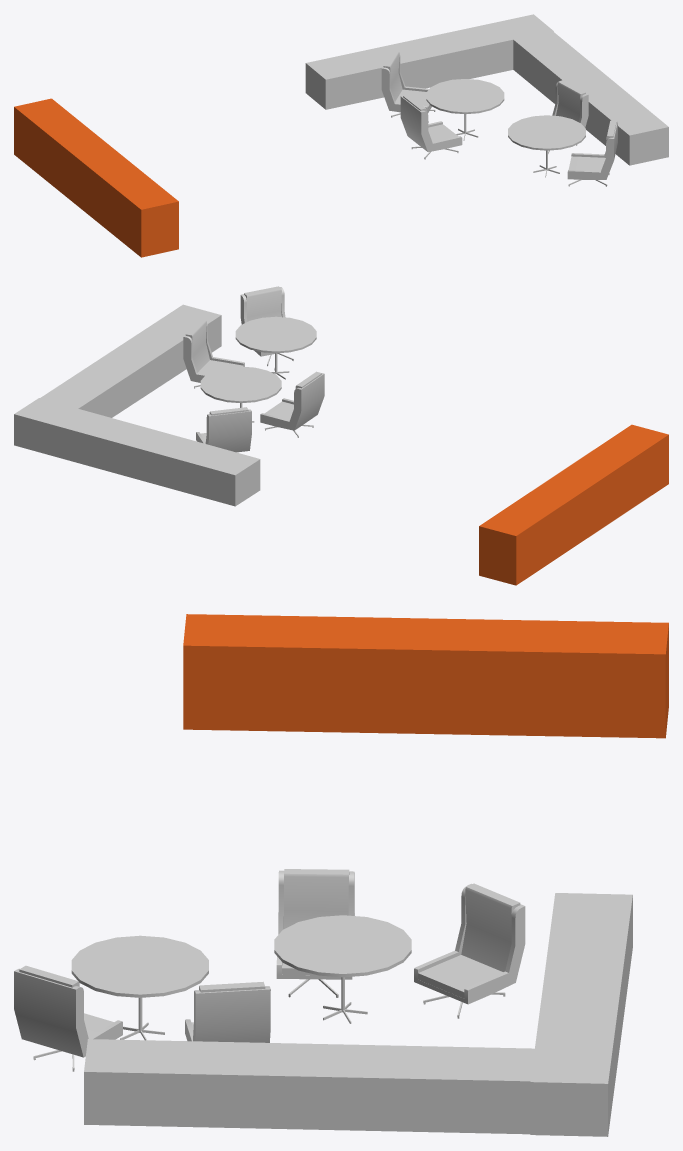
File: across_Lab_01.fbx
The picture shows the model from 3 angles, top to bottom: view 1: azimuth 30°, elevation 25°; view 2: azimuth 150°, elevation 25°; view 3: azimuth 270°, elevation 25°; orthographic projection. The views are drawn at different scales.
Parts seen in each view (by area): view 1: Box073, Box133; view 2: Box073, Box133; view 3: Box073, Box133.
Part boxes in pixels (x1,y1,x2,y2): Box073: (305,14,668,186); Box133: (14,98,178,257); Box073: (14,286,324,506); Box133: (479,424,668,585); Box073: (14,869,632,1136); Box133: (183,614,668,738).
Size of the model in its own units: 852 by 85.83 by 537.
